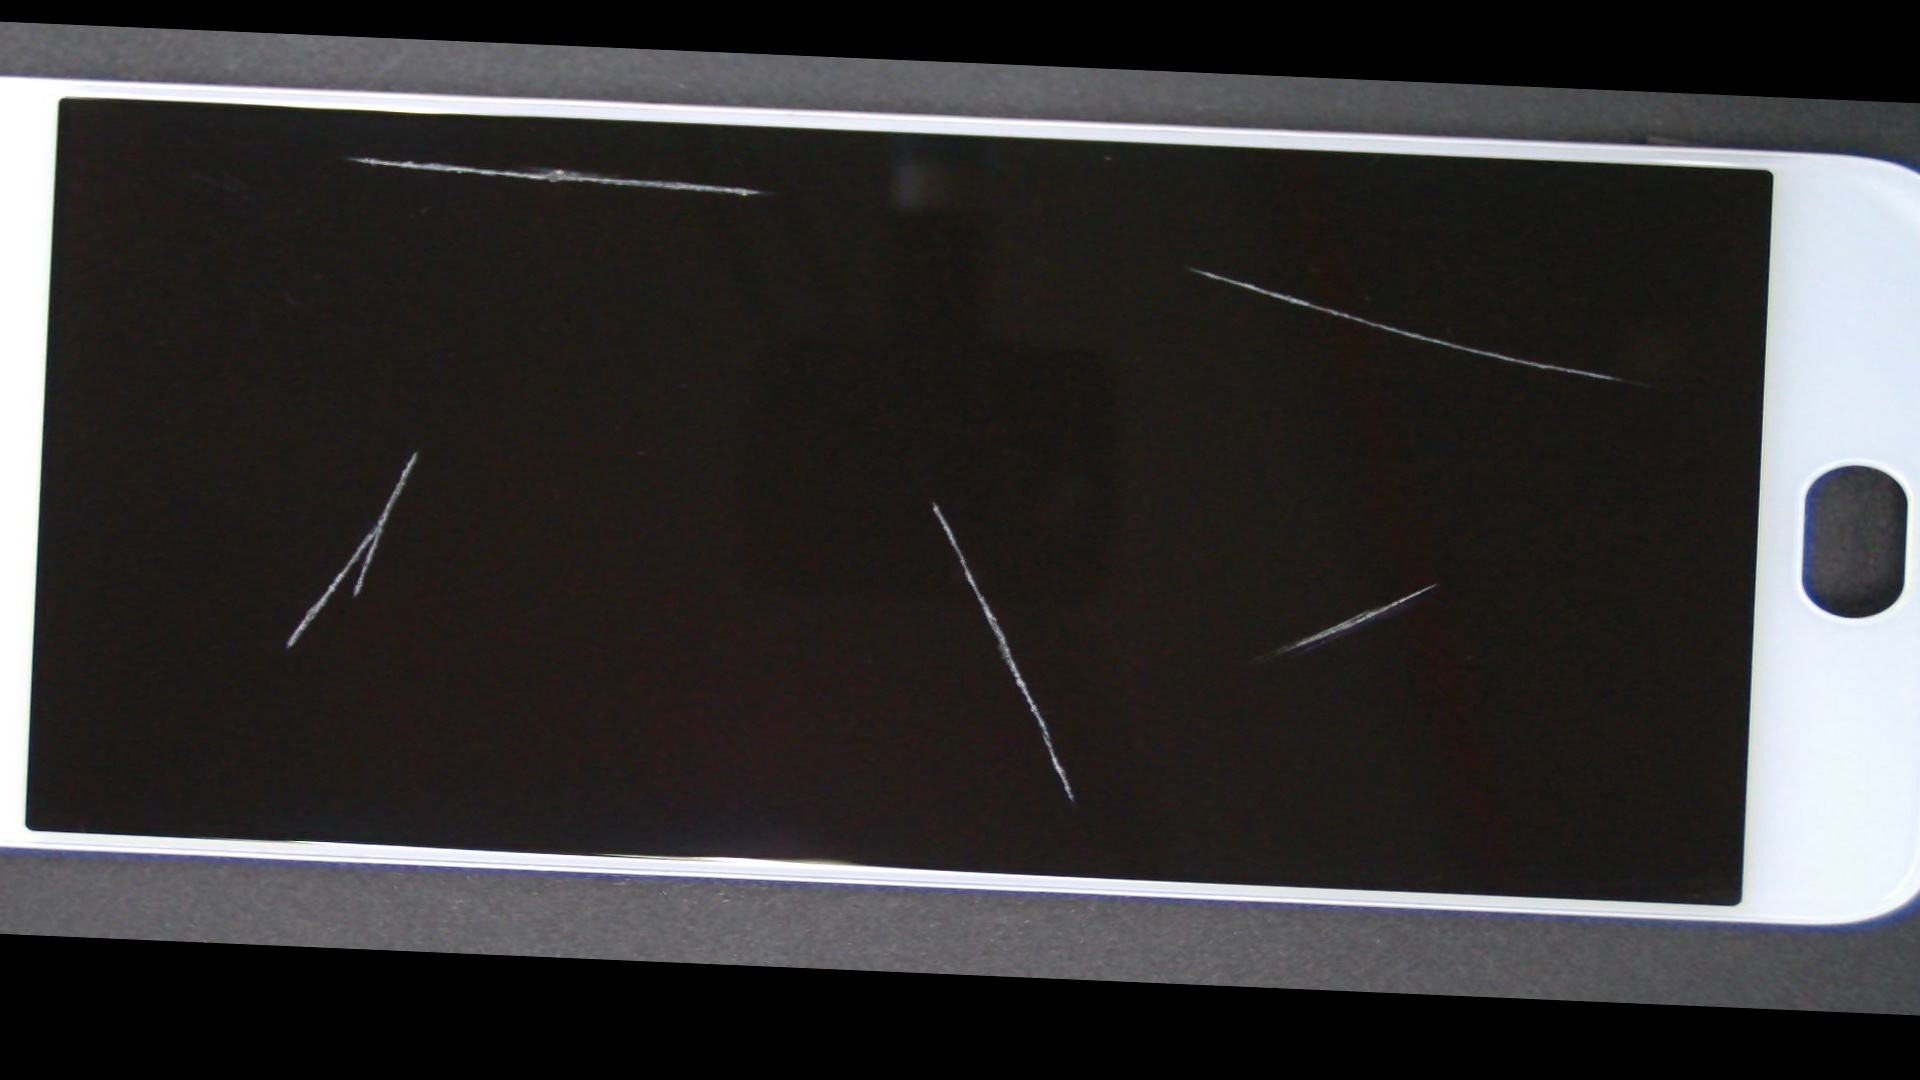oil: (620, 299, 1920, 857), (372, 258, 1494, 745), (510, 141, 1867, 394), (116, 232, 719, 669), (102, 86, 628, 227)
